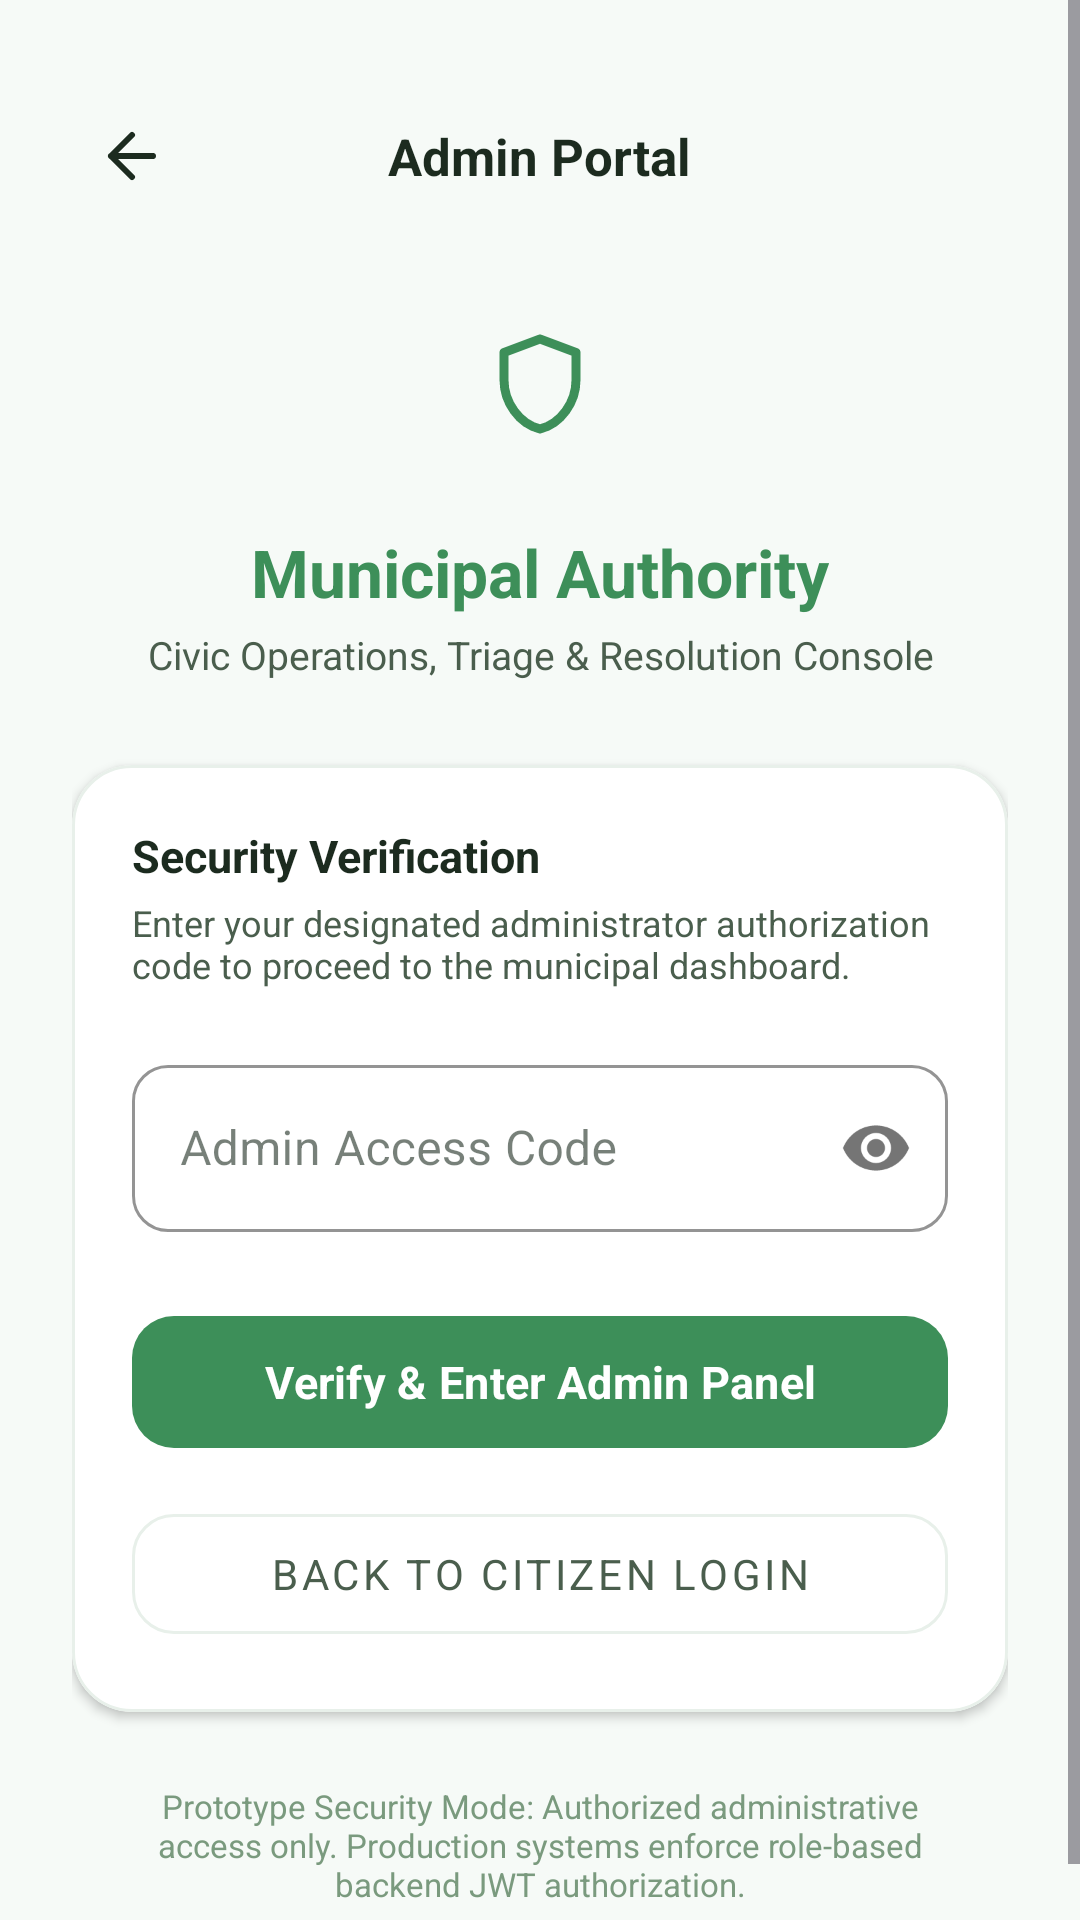

Icons on this 1080 × 1920 Android screen, each with its box as (x1, y1, x2, y2):
Admin badge: (499, 334, 581, 434)
Back: (108, 132, 156, 180)
